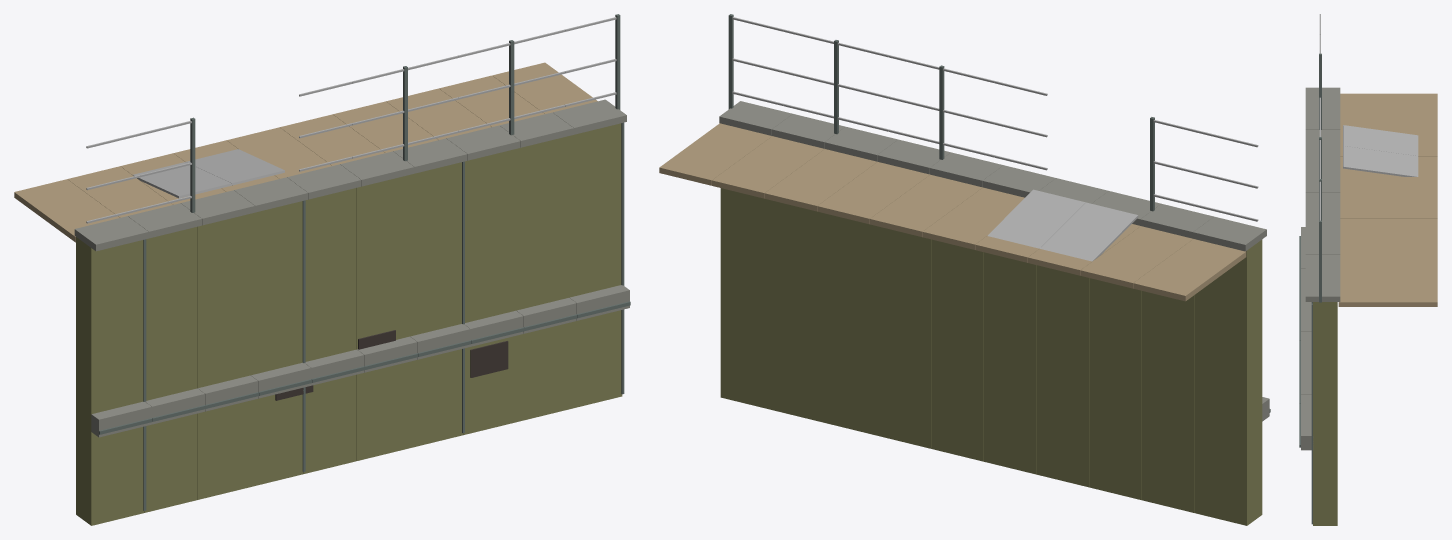
File: SM_MuroRampa_v0_Alto_e1_Danado_LOD0.fbx
The picture shows the model from 3 angles, left to right: view 1: azimuth 30°, elevation 25°; view 2: azimuth 150°, elevation 25°; view 3: azimuth 270°, elevation 25°; orthographic projection. The views are drawn at different scales.
Parts seen in each view (by area): view 1: SM_muro_rampa_v1_LOD0; view 2: SM_muro_rampa_v1_LOD0; view 3: SM_muro_rampa_v1_LOD0.
Boxes of the visible parts, x1=… form: SM_muro_rampa_v1_LOD0: x1=14, y1=14, x2=630, y2=525; SM_muro_rampa_v1_LOD0: x1=659, y1=14, x2=1270, y2=525; SM_muro_rampa_v1_LOD0: x1=1299, y1=14, x2=1437, y2=525.
Size of the model in its own units: 10.03 by 6.8 by 2.8.
